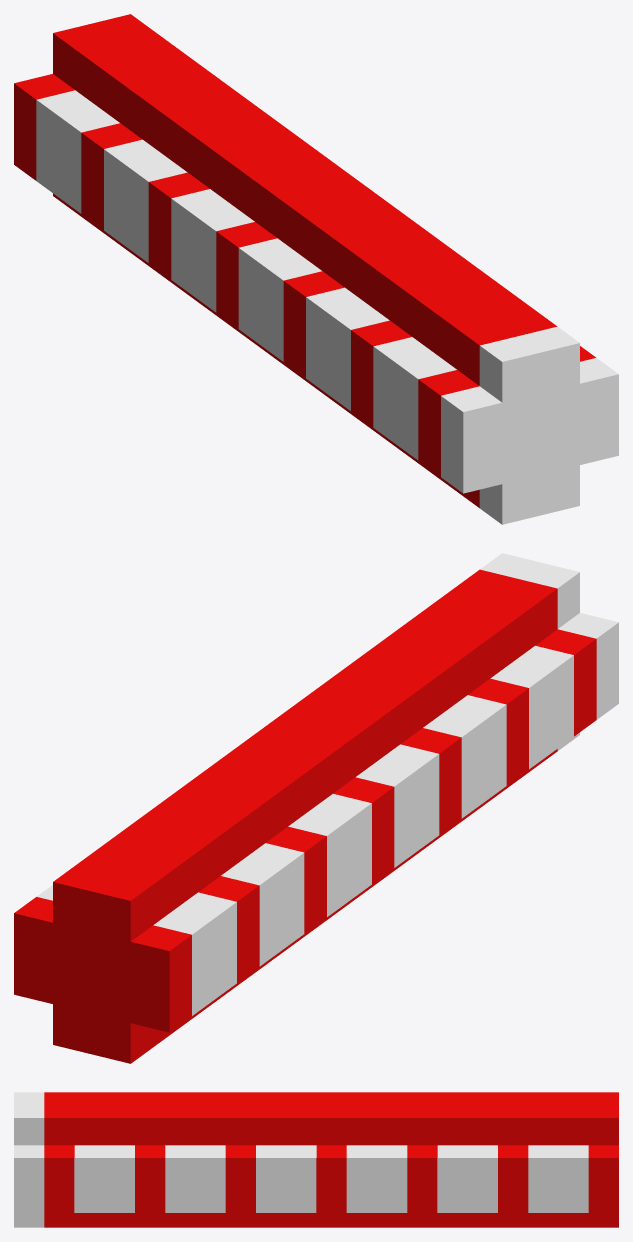
File: Flare.obj
The picture shows the model from 3 angles, top to bottom: view 1: azimuth 30°, elevation 25°; view 2: azimuth 150°, elevation 25°; view 3: azimuth 270°, elevation 25°; orthographic projection. The views are drawn at different scales.
Size of the model in its own units: 4 by 4 by 20.
